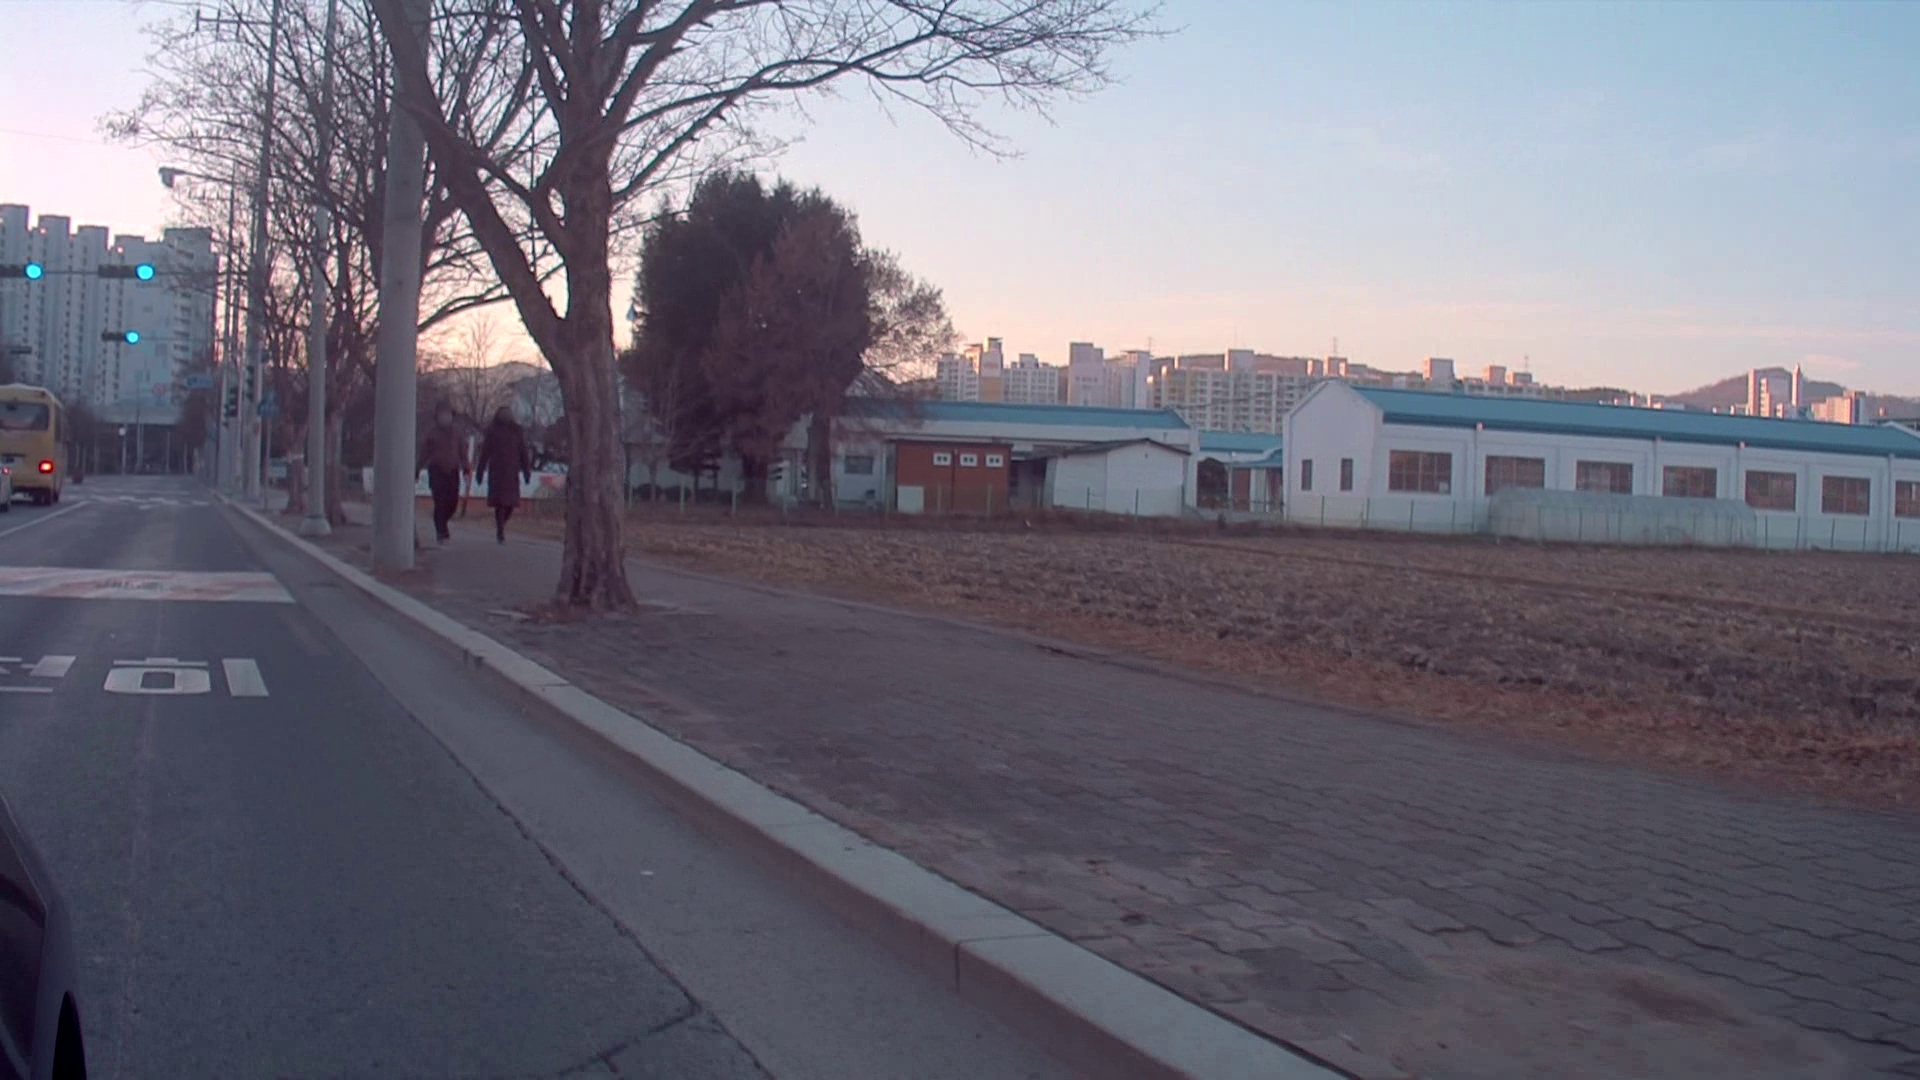trafficLight: (98, 266, 156, 284), (3, 262, 44, 280), (100, 331, 146, 344)
